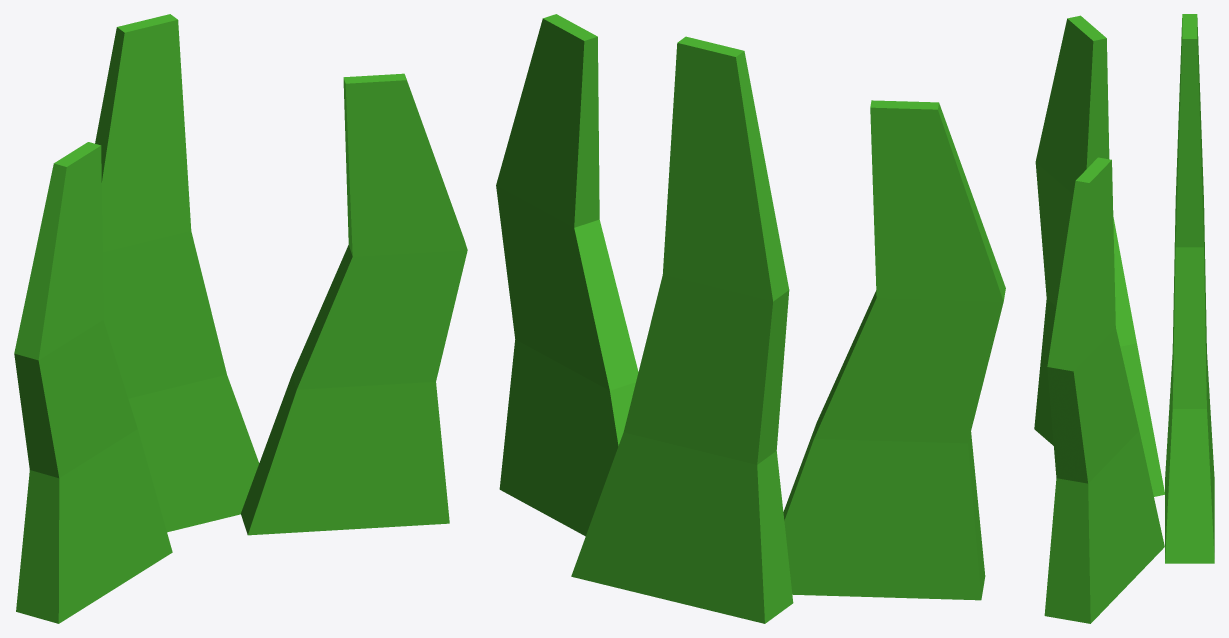
Rendered from Grass.fbx.
3 views of the same model, side by side, from view 1: azimuth 30°, elevation 25°; view 2: azimuth 150°, elevation 25°; view 3: azimuth 270°, elevation 25° (orthographic). The views are drawn at different scales.
Visible parts, largest first — view 1: Cube.002, Cube.001, Cube; view 2: Cube.001, Cube, Cube.002; view 3: Cube.002, Cube.001, Cube.
Part boxes in pixels (left/top/right/bottom): Cube.002: left=241, top=73, right=467, bottom=535; Cube.001: left=95, top=14, right=259, bottom=532; Cube: left=14, top=142, right=172, bottom=623; Cube.001: left=571, top=36, right=793, bottom=623; Cube: left=783, top=100, right=1005, bottom=600; Cube.002: left=496, top=14, right=638, bottom=536; Cube.002: left=1044, top=157, right=1164, bottom=623; Cube.001: left=1165, top=14, right=1214, bottom=563; Cube: left=1034, top=15, right=1164, bottom=496.
Size of the model in its own units: 50.48 by 53.01 by 17.94.
